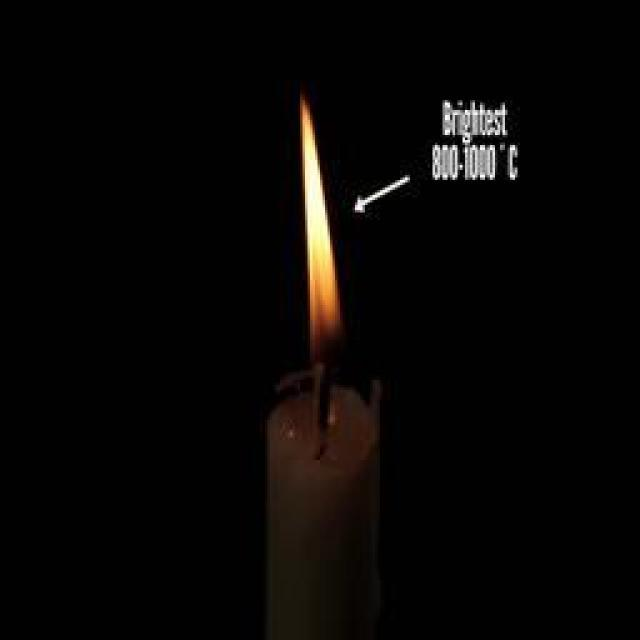Fire: (296, 99, 339, 339)
